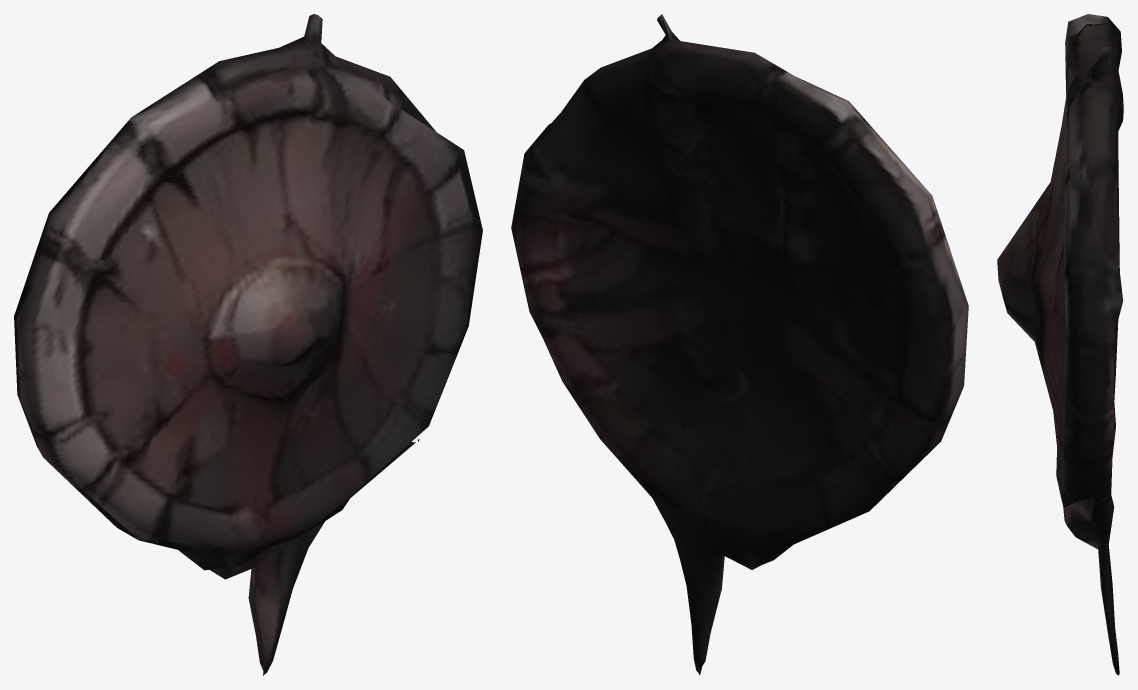
3 views of the same model, side by side, from view 1: azimuth 30°, elevation 25°; view 2: azimuth 150°, elevation 25°; view 3: azimuth 270°, elevation 25° (orthographic).
Parts seen in each view (by area): view 1: round; view 2: round; view 3: round.
Part boxes in pixels (x1,y1,x2,y2): round: (14,14,482,675); round: (511,14,968,675); round: (997,14,1123,675).
Bounding box in the file's own units: 0.3559 × 0.4899 × 0.0862.
Materials: 1 (1 with a texture image).
